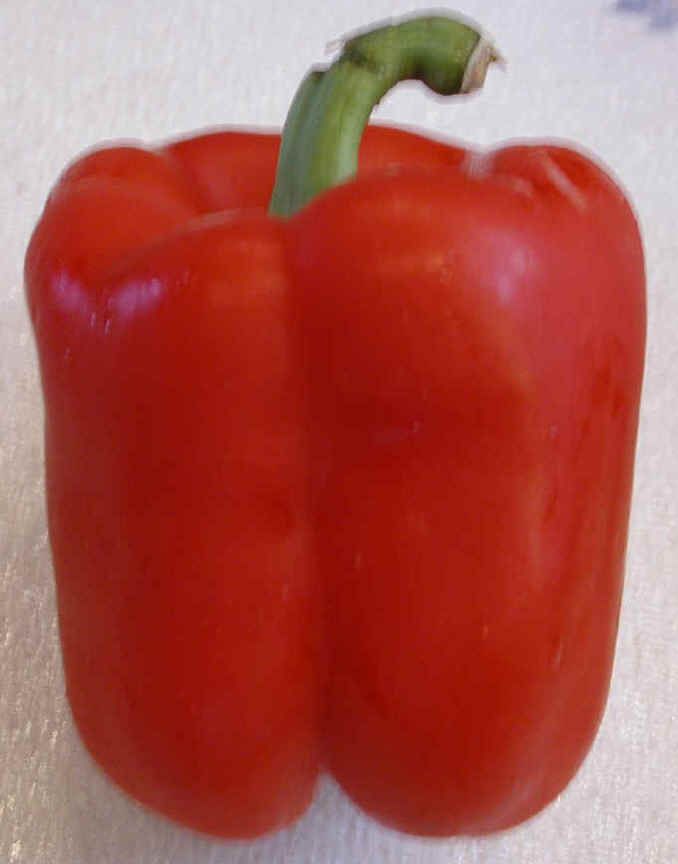capsicum: (21, 15, 649, 842)
